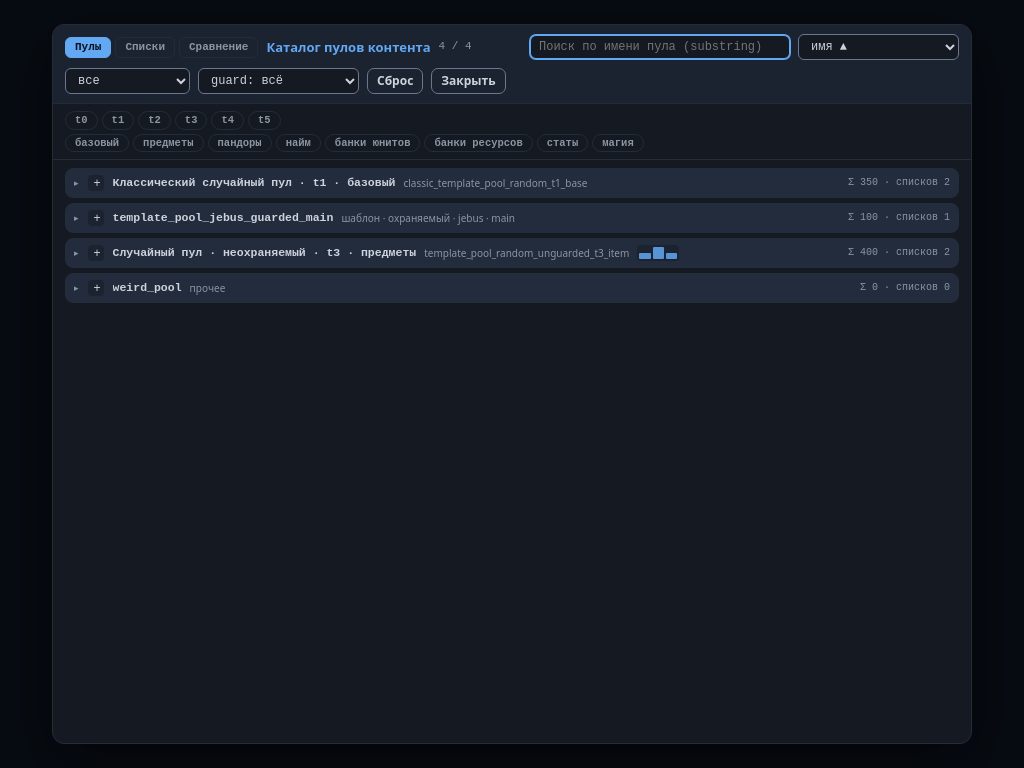
PoolBrowser › сравнение: добавление черновиком и кнопкой «+», матрица и счётчики
Check: the text "weird_pool" is shown, box [112,280,182,296]
Click the button "Сравнение". click: (219, 47)
box: [179,36,258,58]
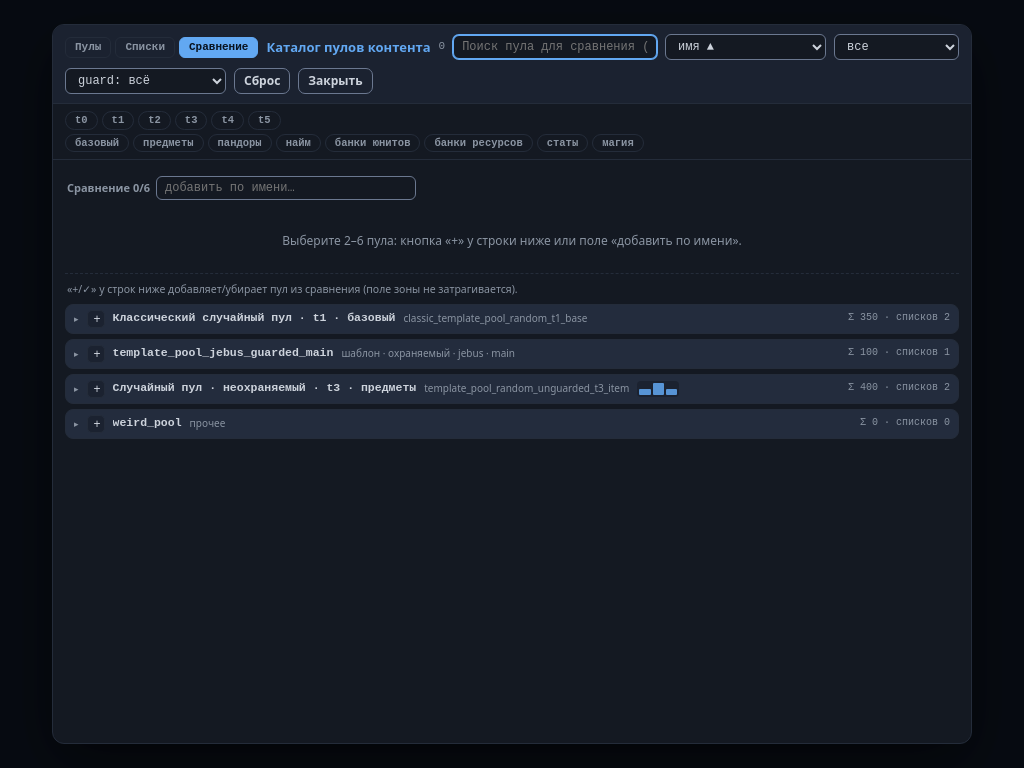
Check: the text "Выберите 2–6 пула" is shown, box [282,232,742,249]
# первый пул — полем «добавить по имени» + Enter
Type "classic_template_pool_random_t1_base" into the dropdown with placeholder "добавить по имени…". click: (286, 188)
box: [156,176,416,200]
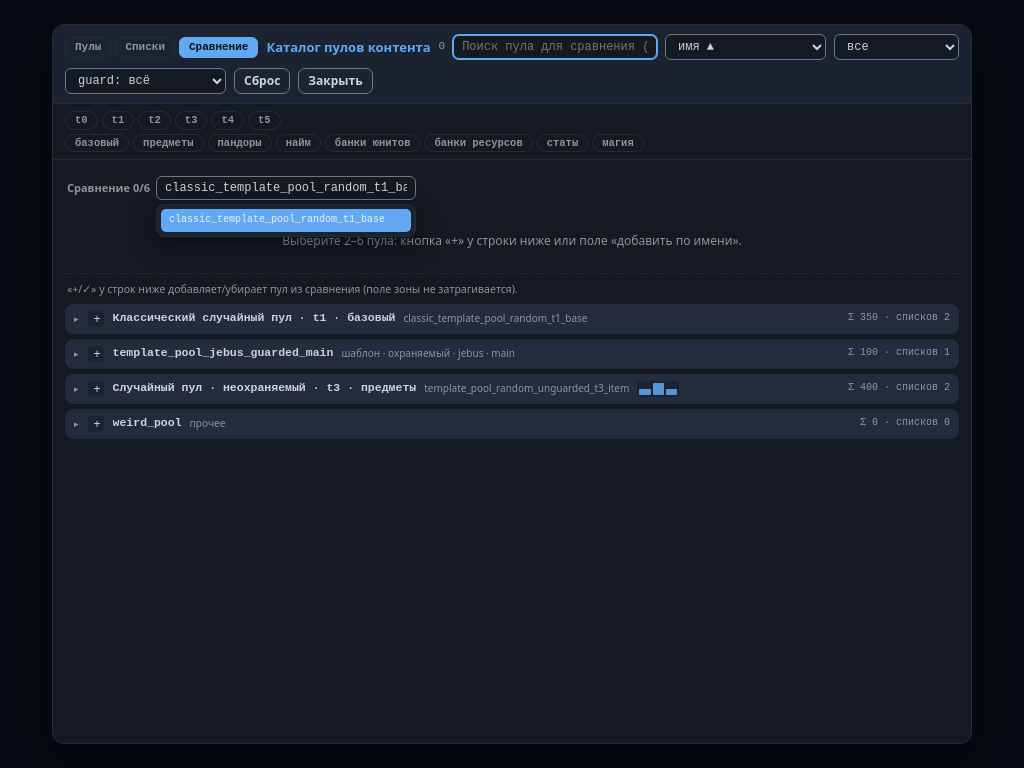
Press Enter in the dropdown with placeholder "добавить по имени…" next to "Сравнение 0/6", box [156,176,416,200]
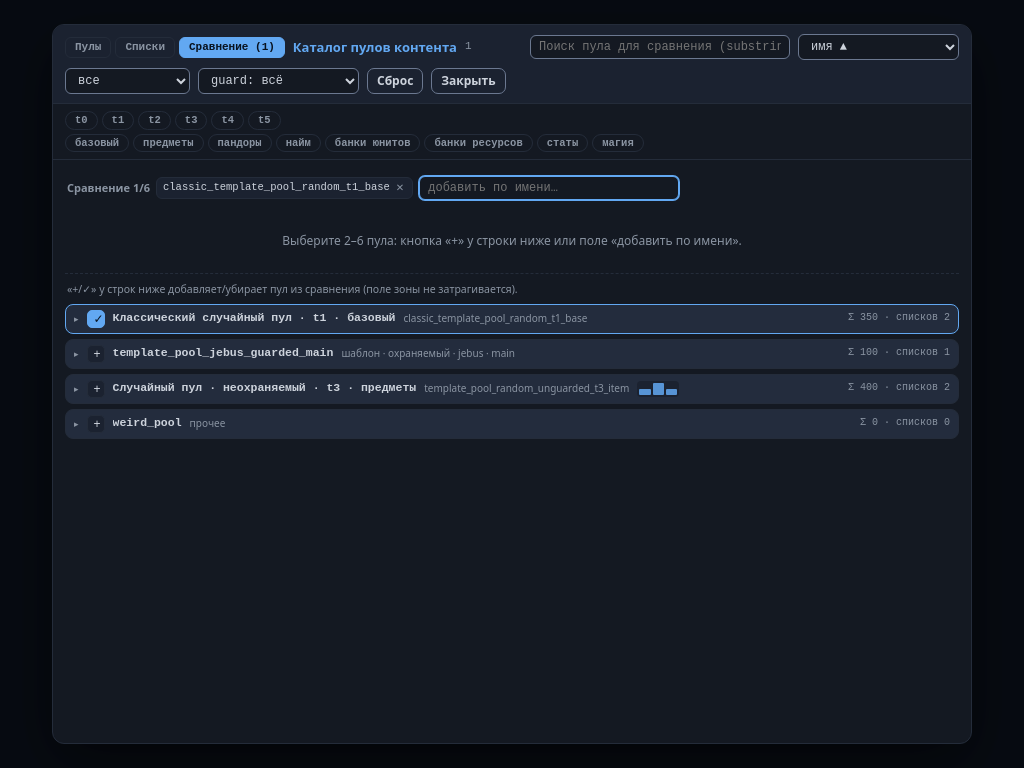
Check: the button "Сравнение (1)" is shown, box [179,36,285,58]
# второй пул — кнопкой «+» у строки
Click the button titled "Добавить в выбранные" in the row of "template_pool_random_unguarded_t3_item". click: (96, 389)
box: [86,380,104,398]
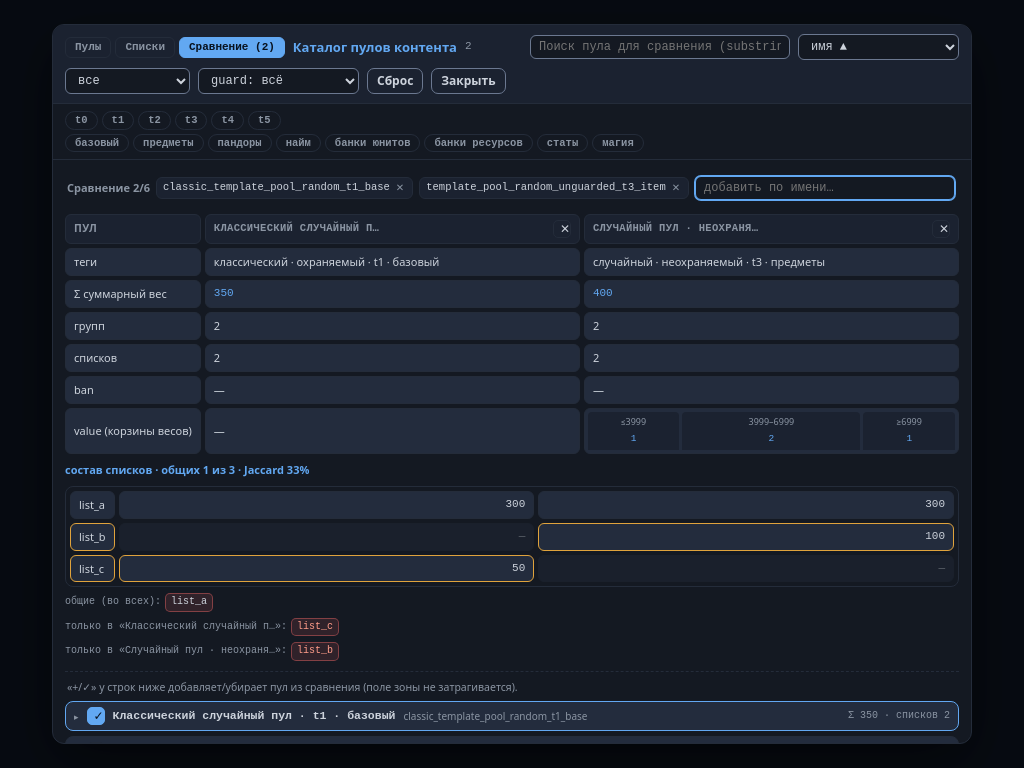
Check: the text "состав списков · общих 1 из 3 · Jaccard 33%" is shown, box [65,462,309,477]
Check: the text "Сравнение 2/6" is shown, box [67,180,150,196]
Check: the button "Сравнение (2)" is shown, box [179,36,285,58]
